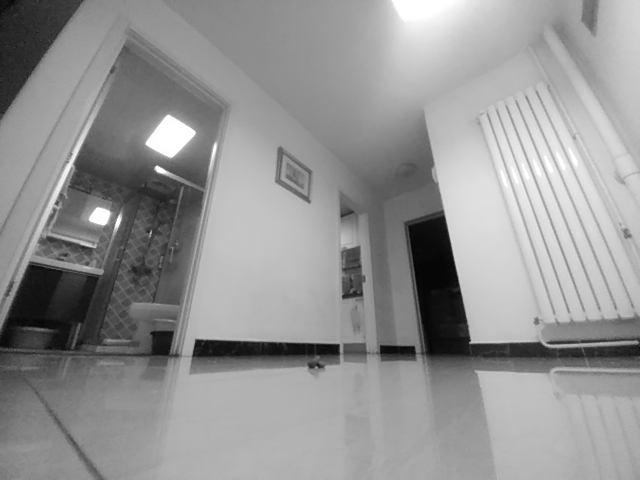pet feces: (306, 353, 326, 371)
